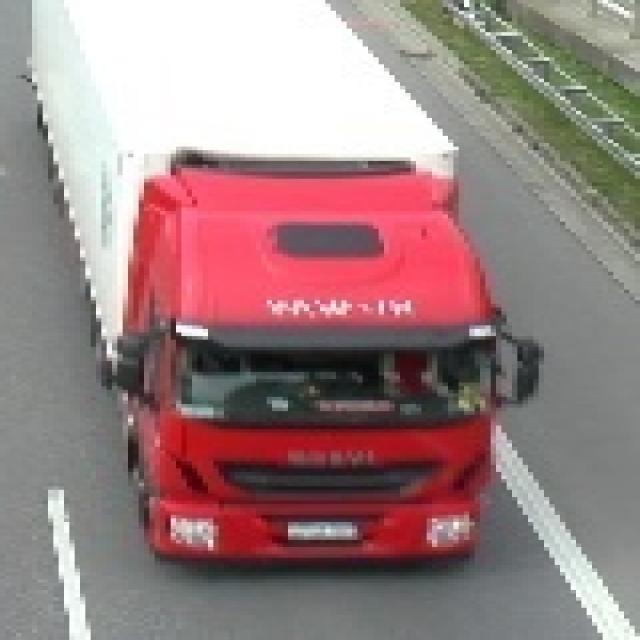TRUCK: (26, 1, 498, 568)
